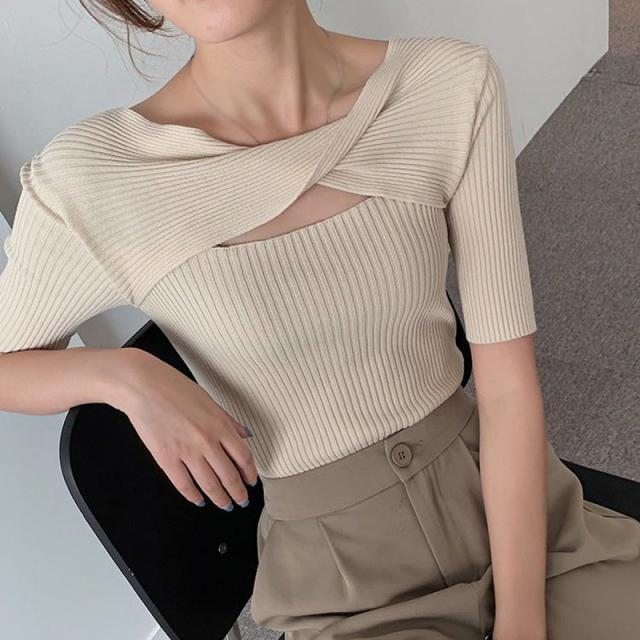Shirt: (0, 32, 542, 466)
